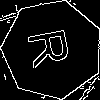R: (27, 24, 80, 69)
